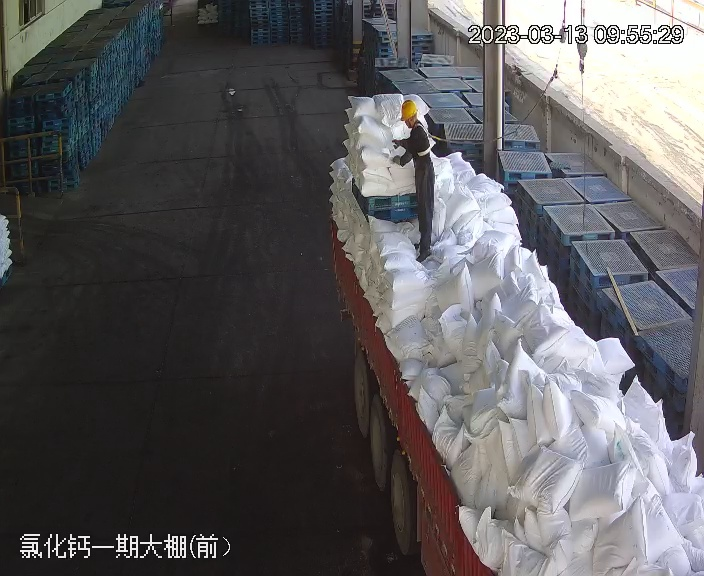belt: (411, 118, 441, 156)
head: (397, 99, 432, 140)
helmet: (399, 99, 418, 120)
people: (392, 98, 441, 263)
truck: (308, 107, 696, 571)
